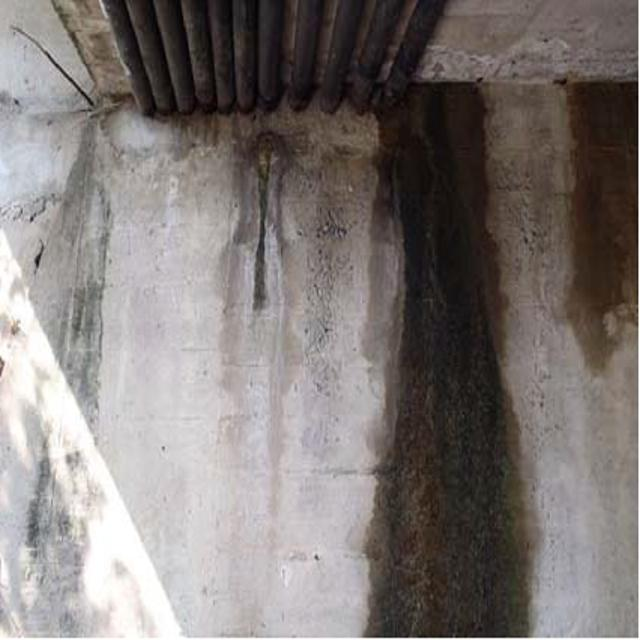freelime: (358, 68, 544, 640), (570, 64, 640, 366)
